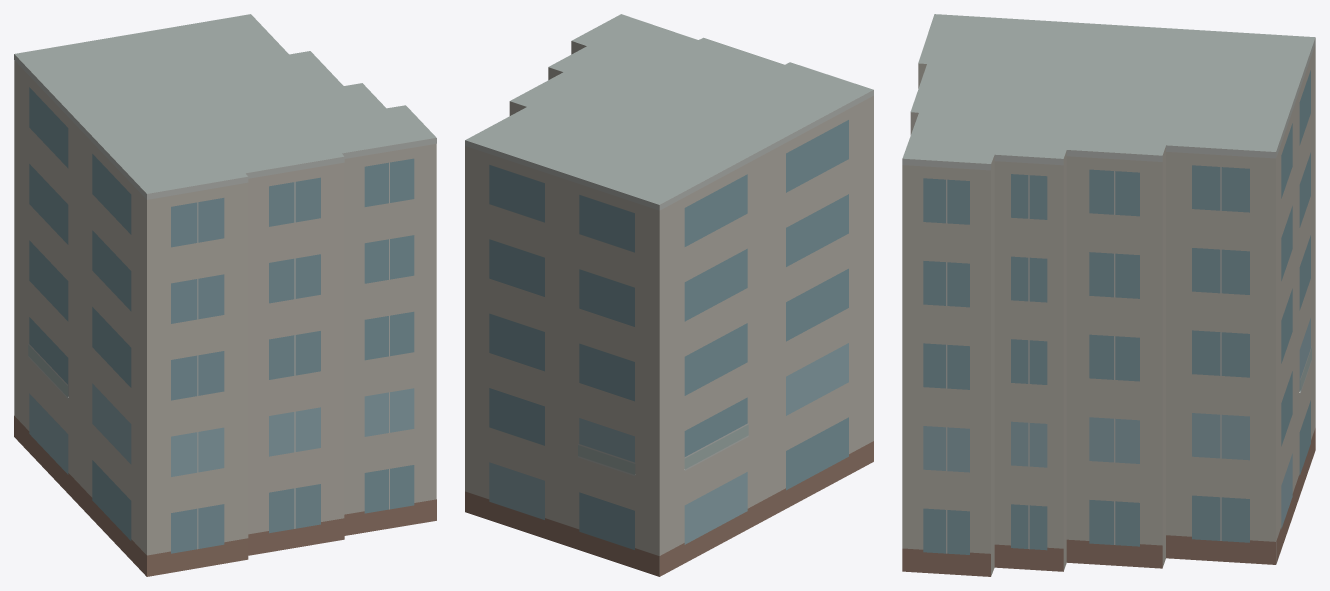
The model's file is survey-upis-32770699.glb.
3 views of the same model, side by side, from view 1: azimuth 30°, elevation 25°; view 2: azimuth 150°, elevation 25°; view 3: azimuth 270°, elevation 25° (orthographic). The views are drawn at different scales.
Visible parts, largest first — view 1: survey-upis-32770699.tmp; view 2: survey-upis-32770699.tmp; view 3: survey-upis-32770699.tmp.
Part boxes in pixels (x1,y1,x2,y2): survey-upis-32770699.tmp: (14, 14, 436, 576); survey-upis-32770699.tmp: (465, 14, 873, 576); survey-upis-32770699.tmp: (902, 14, 1315, 576).
Size of the model in its own units: 12.25 by 15.7 by 14.25.
